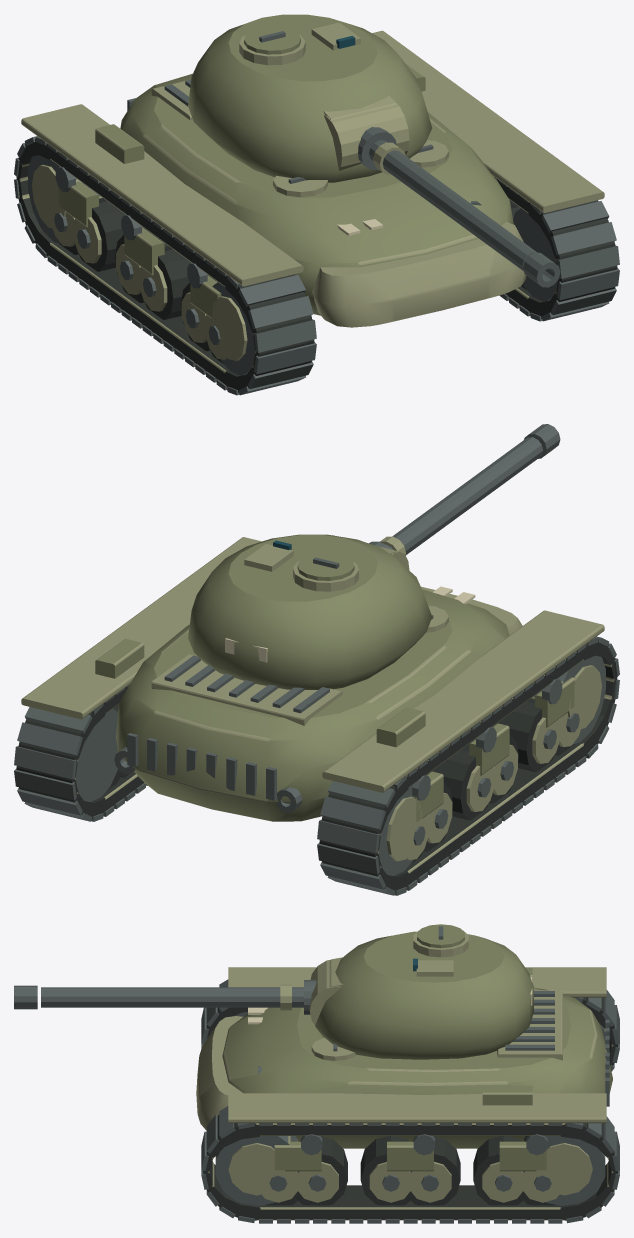
File: foundry.glb
3 renders of one model, top to bottom at view 1: azimuth 30°, elevation 25°; view 2: azimuth 150°, elevation 25°; view 3: azimuth 270°, elevation 25°, orthographic. The views are drawn at different scales.
Parts seen in each view (by area): view 1: Hull, Turret, Barrel; view 2: Hull, Turret, Barrel; view 3: Hull, Turret, Barrel.
Boxes of the visible parts, <box> form: Hull: <box>14,30,619,395</box>; Turret: <box>188,14,431,182</box>; Barrel: <box>324,100,560,287</box>; Hull: <box>14,537,619,895</box>; Turret: <box>188,534,432,689</box>; Barrel: <box>333,424,560,570</box>; Hull: <box>196,967,619,1223</box>; Turret: <box>315,924,533,1059</box>; Barrel: <box>14,960,340,1025</box>.
Bounding box in the file's own units: 3.66 × 2.32 × 6.19.
